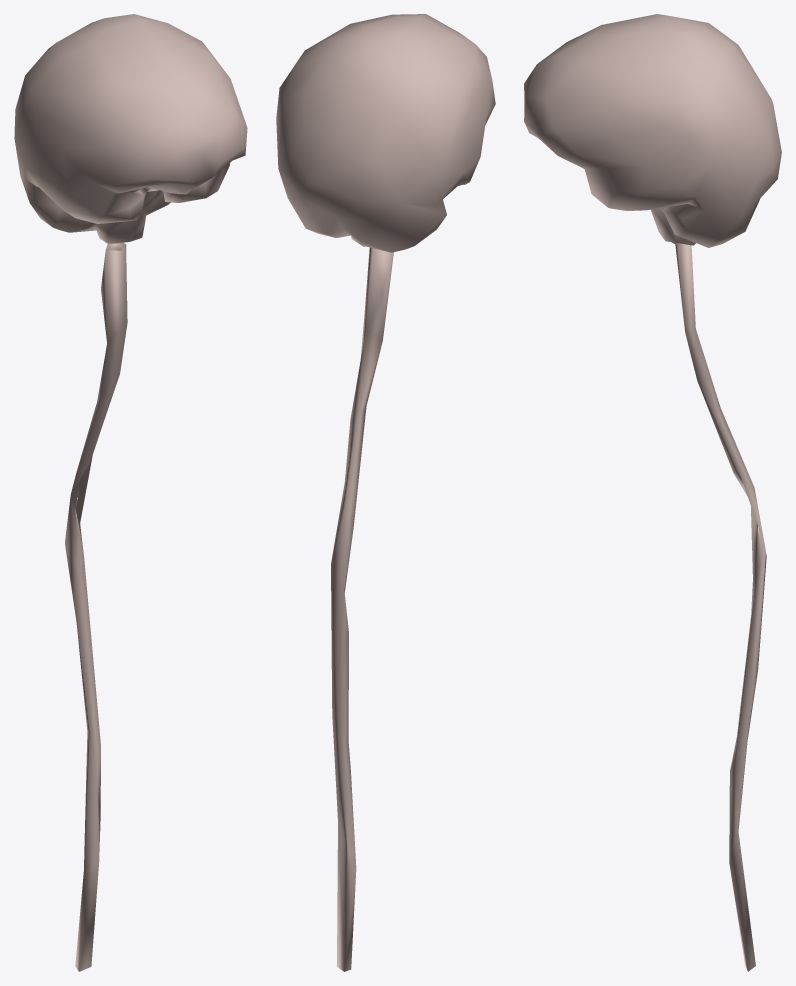
File: pediatric_adolescent_male.nervous.LOD3.glb
The picture shows the model from 3 angles, left to right: view 1: azimuth 30°, elevation 25°; view 2: azimuth 150°, elevation 25°; view 3: azimuth 270°, elevation 25°; orthographic projection. The views are drawn at different scales.
Visible parts, largest first — view 1: PEDIATRIC.ADOLESCENT.MALE.NERVOUS.BRAIN, PEDIATRIC.ADOLESCENT.MALE.NERVOUS.SPINAL_CORD; view 2: PEDIATRIC.ADOLESCENT.MALE.NERVOUS.BRAIN, PEDIATRIC.ADOLESCENT.MALE.NERVOUS.SPINAL_CORD; view 3: PEDIATRIC.ADOLESCENT.MALE.NERVOUS.BRAIN, PEDIATRIC.ADOLESCENT.MALE.NERVOUS.SPINAL_CORD.
Part boxes in pixels (x1,y1,x2,y2): PEDIATRIC.ADOLESCENT.MALE.NERVOUS.BRAIN: (14, 14, 247, 243); PEDIATRIC.ADOLESCENT.MALE.NERVOUS.SPINAL_CORD: (65, 243, 127, 971); PEDIATRIC.ADOLESCENT.MALE.NERVOUS.BRAIN: (276, 14, 495, 252); PEDIATRIC.ADOLESCENT.MALE.NERVOUS.SPINAL_CORD: (331, 247, 393, 971); PEDIATRIC.ADOLESCENT.MALE.NERVOUS.BRAIN: (524, 14, 781, 247); PEDIATRIC.ADOLESCENT.MALE.NERVOUS.SPINAL_CORD: (672, 242, 766, 971).
Bounding box in the file's own units: 0.1333 × 0.656 × 0.1621.
